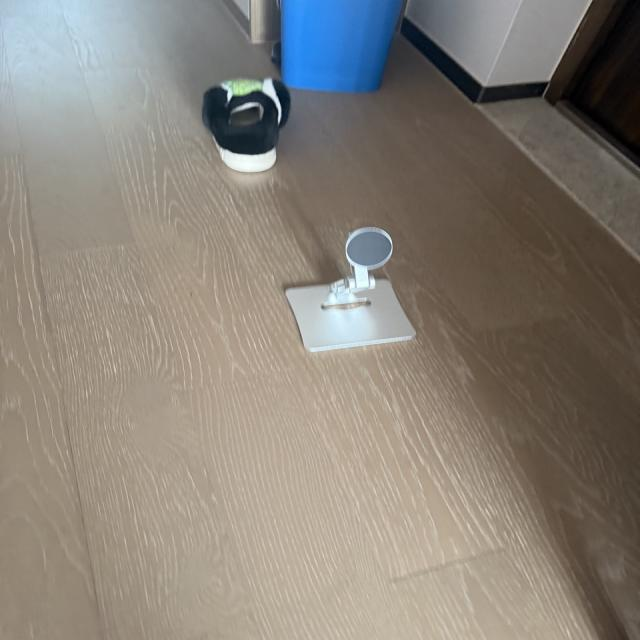phone holder: (278, 215, 422, 355)
